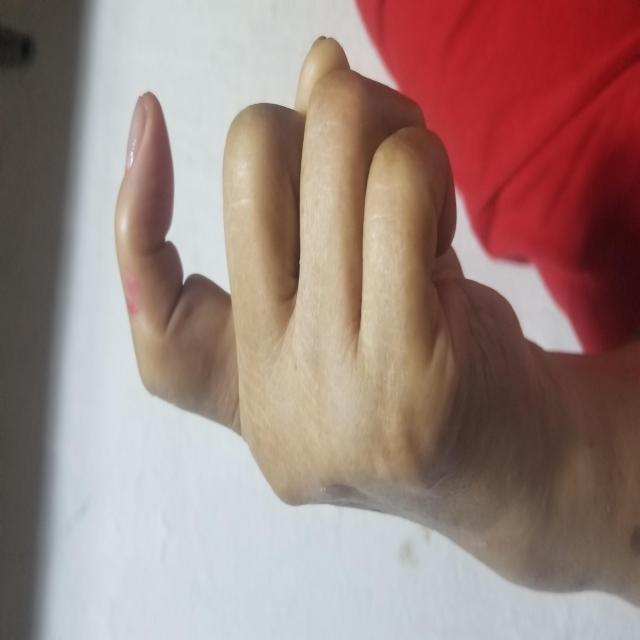X: (129, 112, 608, 456)
